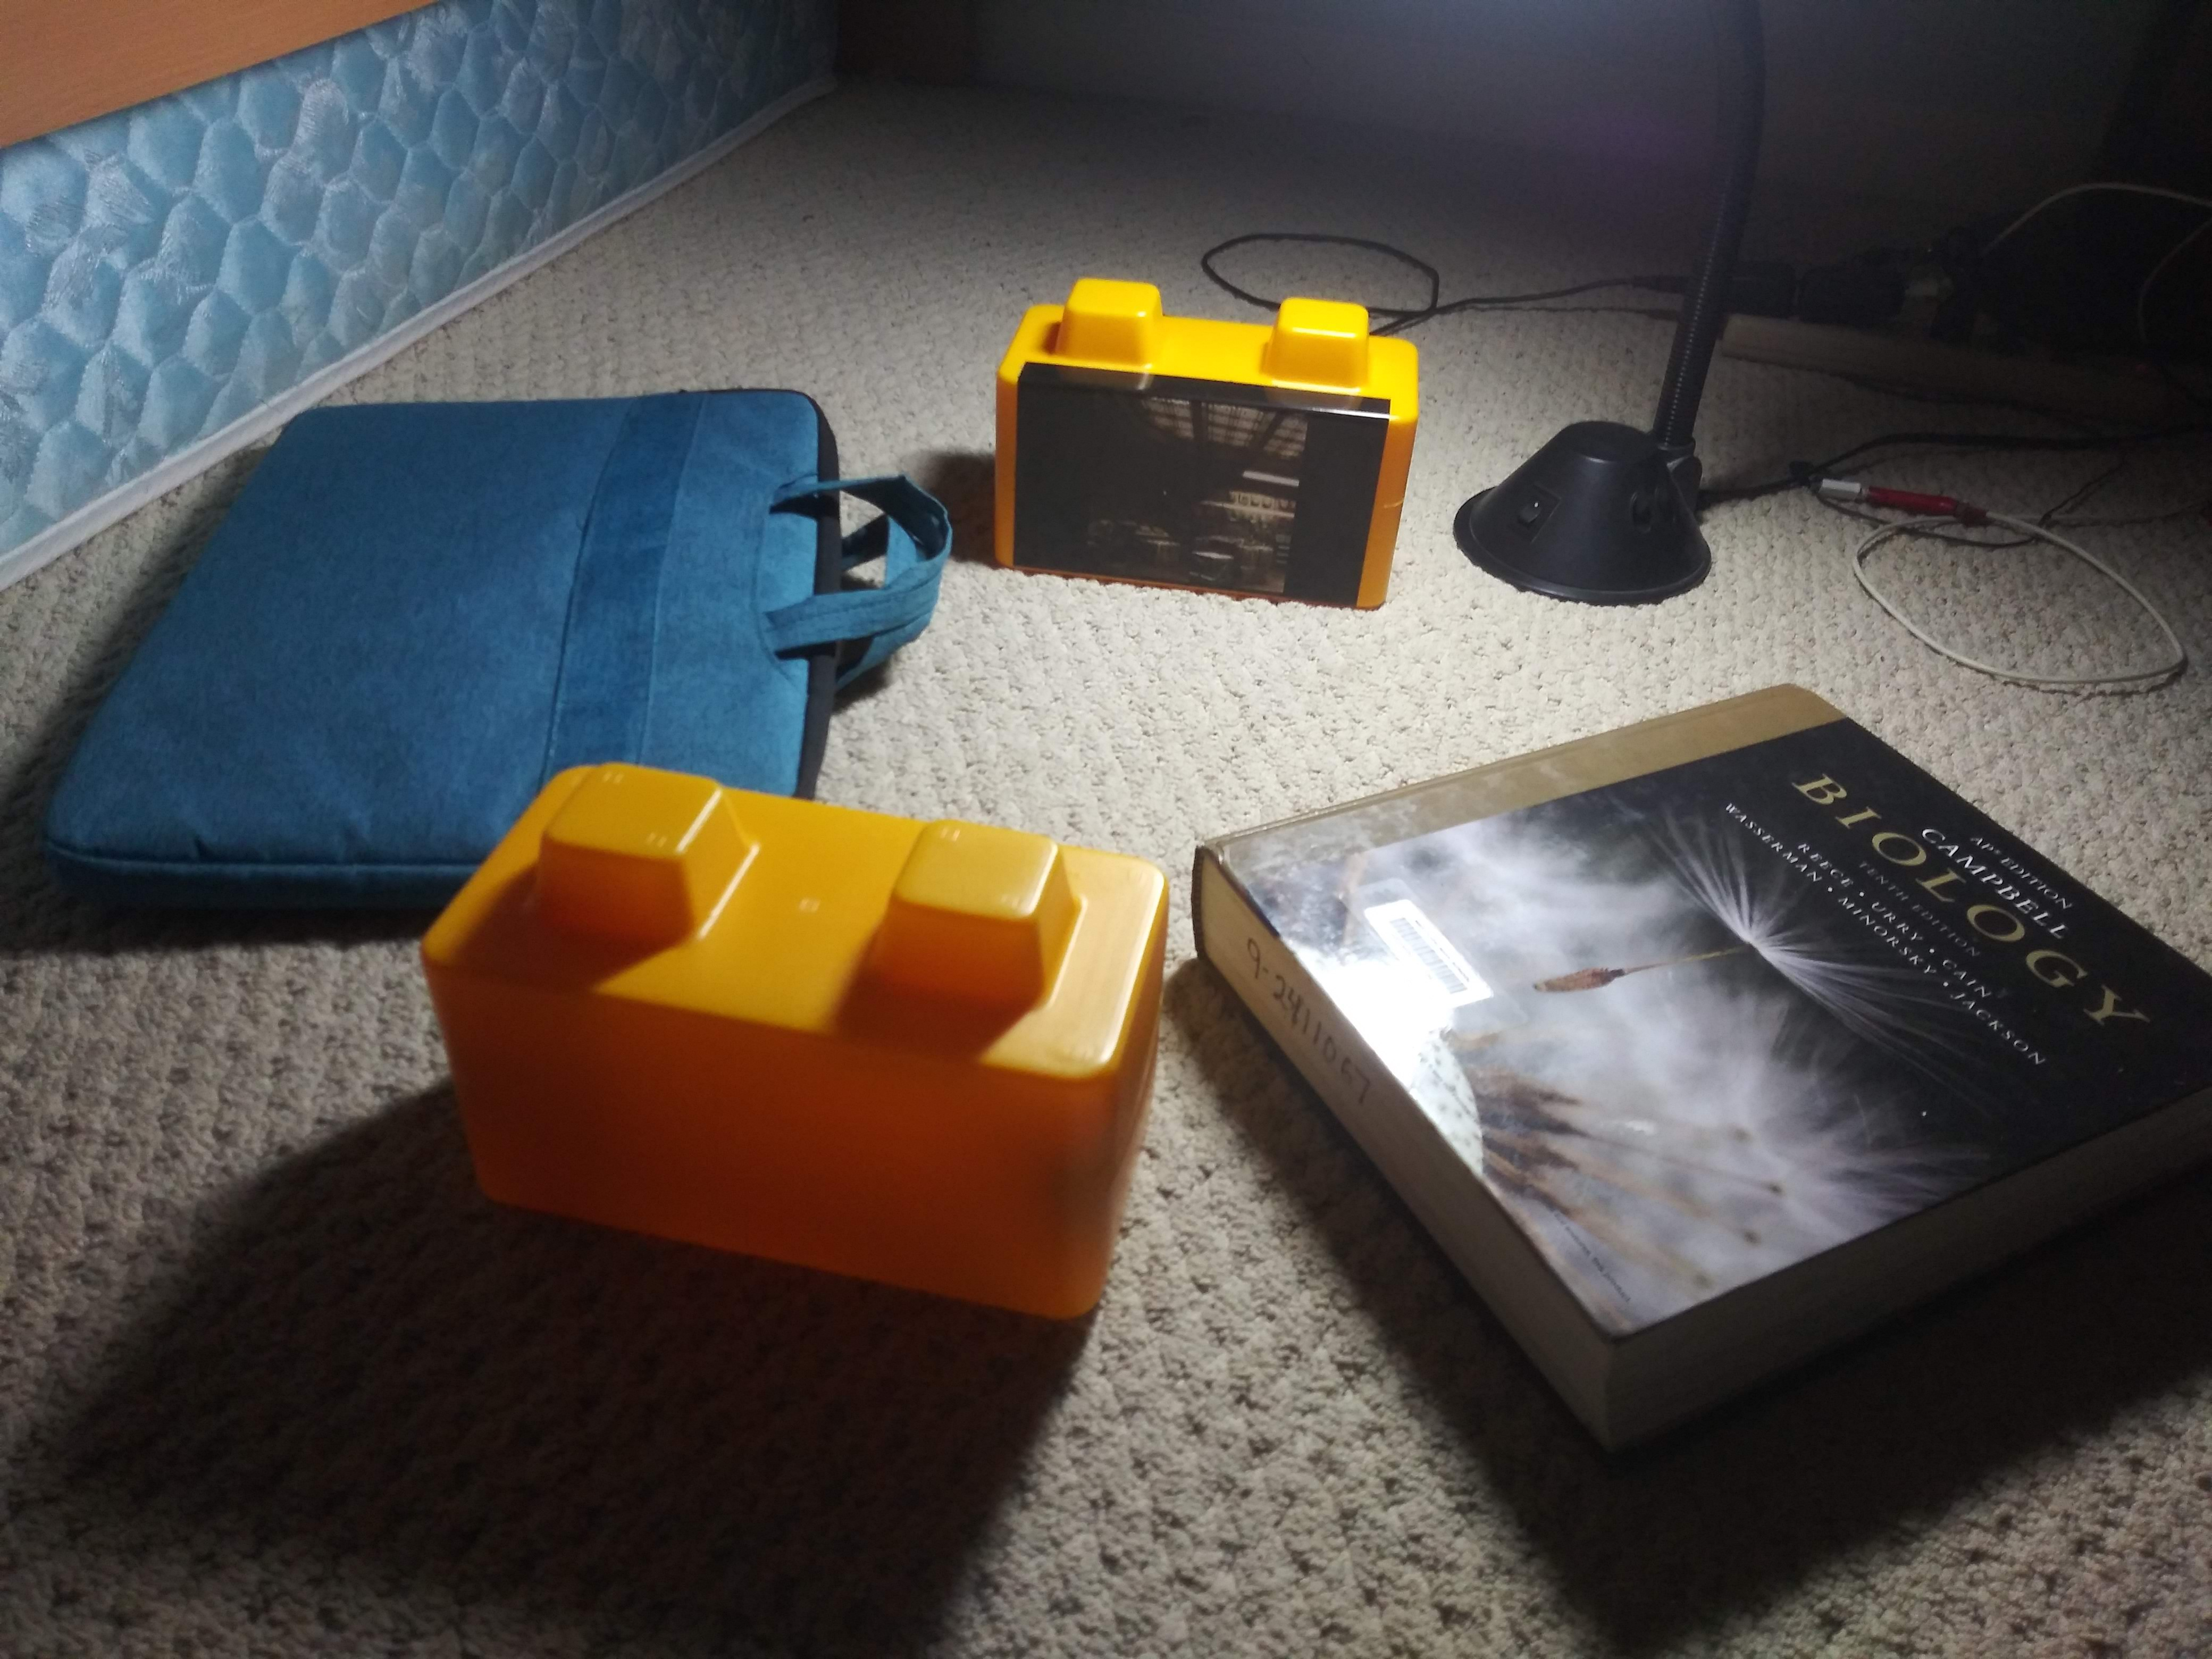skystone: (1003, 322, 1395, 615)
stone: (465, 838, 1127, 1309)
